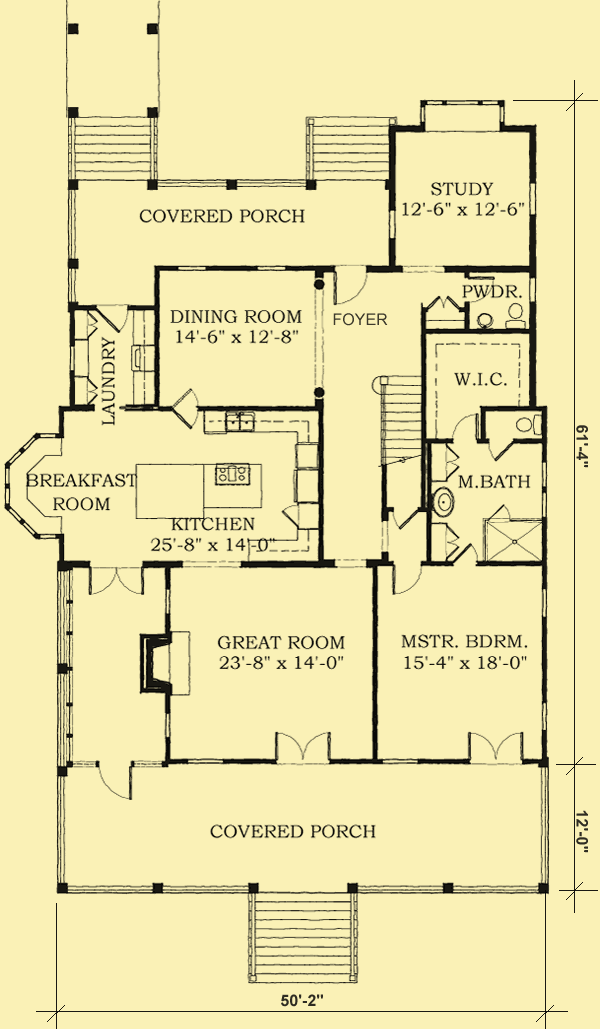covered porch has stairs: (61, 765, 552, 983), (69, 91, 394, 275)
kitchen has a kitchen bar with cooking range and sink: (59, 403, 329, 570)
laundry room has a washer and dryer: (69, 304, 157, 409)
master bathroom has a bathtub ans shower with dual sink and large sink with walk: (419, 329, 550, 561)
